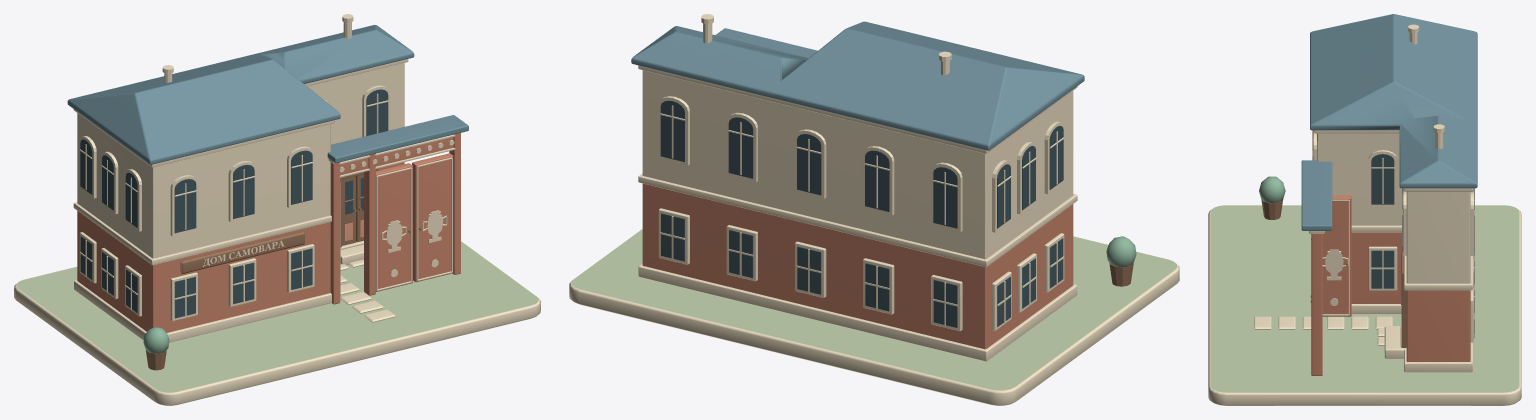
Rendered from dom-samovara.glb.
3 views of the same model, side by side, from view 1: azimuth 30°, elevation 25°; view 2: azimuth 150°, elevation 25°; view 3: azimuth 270°, elevation 25° (orthographic). The views are drawn at different scales.
Visible parts, largest first — view 1: dom-samovara · soft low-poly; view 2: dom-samovara · soft low-poly; view 3: dom-samovara · soft low-poly.
Boxes of the visible parts, x1,y1,x2,y2 form: dom-samovara · soft low-poly: (14, 14, 540, 405); dom-samovara · soft low-poly: (569, 14, 1179, 405); dom-samovara · soft low-poly: (1208, 14, 1521, 405).
Bounding box in the file's own units: 7 × 4.2 × 4.9.
